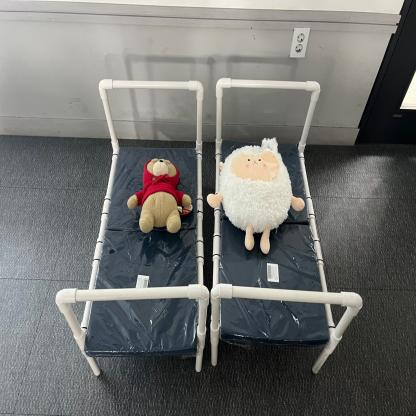yp: (51, 62, 361, 400)
